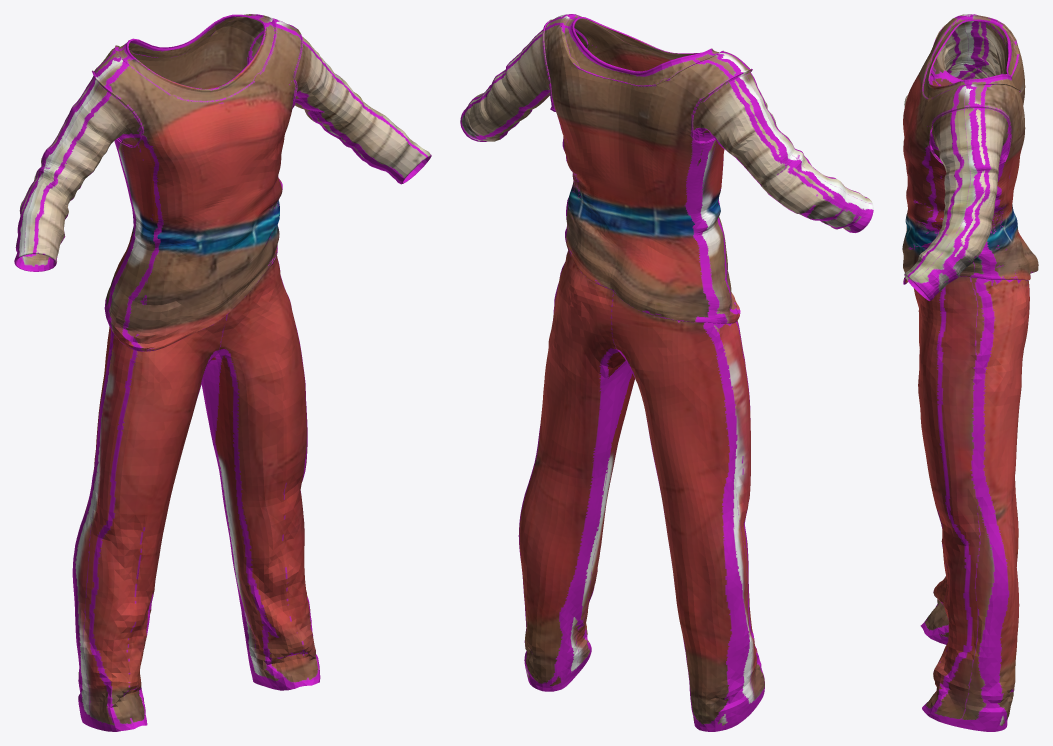
The picture shows the model from 3 angles, left to right: view 1: azimuth 30°, elevation 25°; view 2: azimuth 150°, elevation 25°; view 3: azimuth 270°, elevation 25°; orthographic projection. The views are drawn at different scales.
Bounding box in the file's own units: 0.5866 × 0.908 × 0.1756.
Materials: 1 (1 with a texture image).
